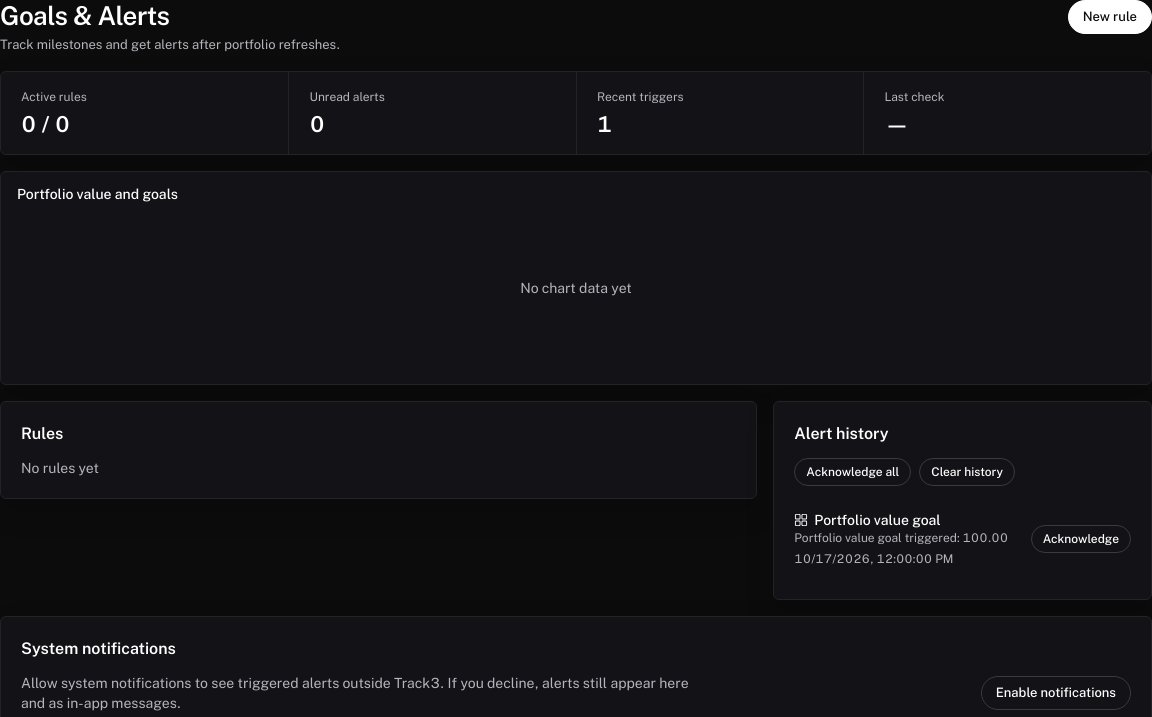
Test case: confirms before clearing alert history
Check: the text "Portfolio value goal triggered: 100.00" is shown, box [794,530,1008,546]
Step 1. Click the button "Clear history" → (967, 472), box [919,458,1015,486]
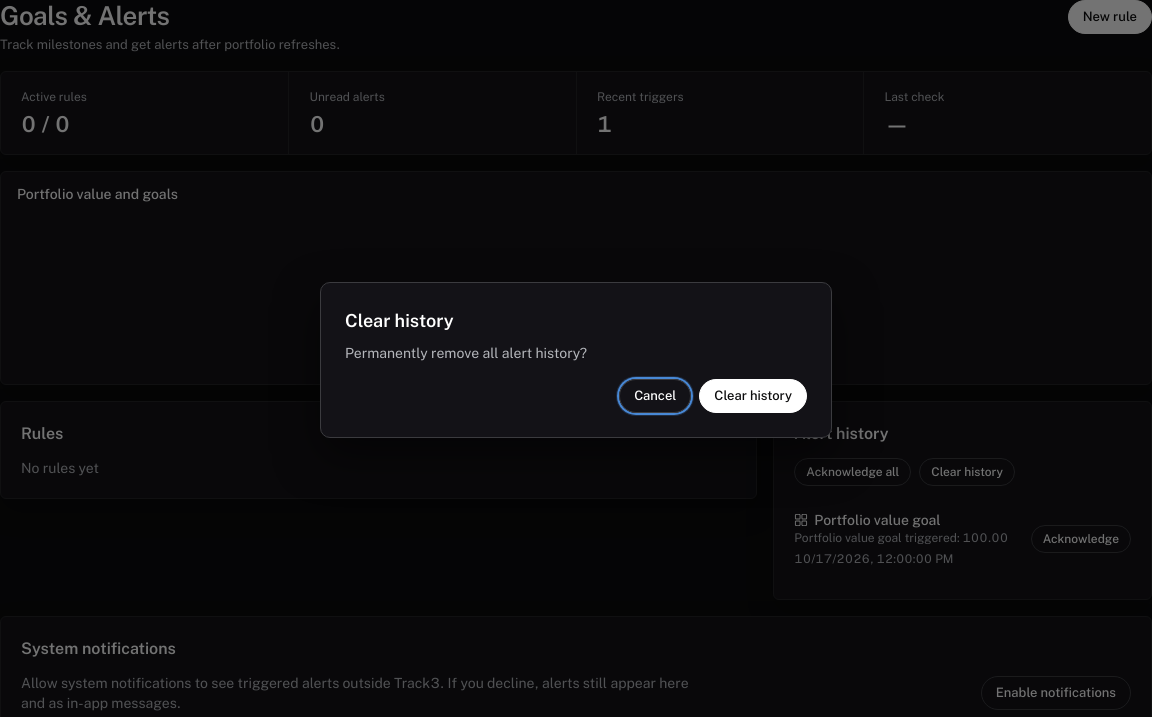
Check: the dialog shows "Permanently remove all alert history?", box [345,345,587,361]
Step 2. Click the button "Cancel" → (655, 396), box [619,379,691,413]
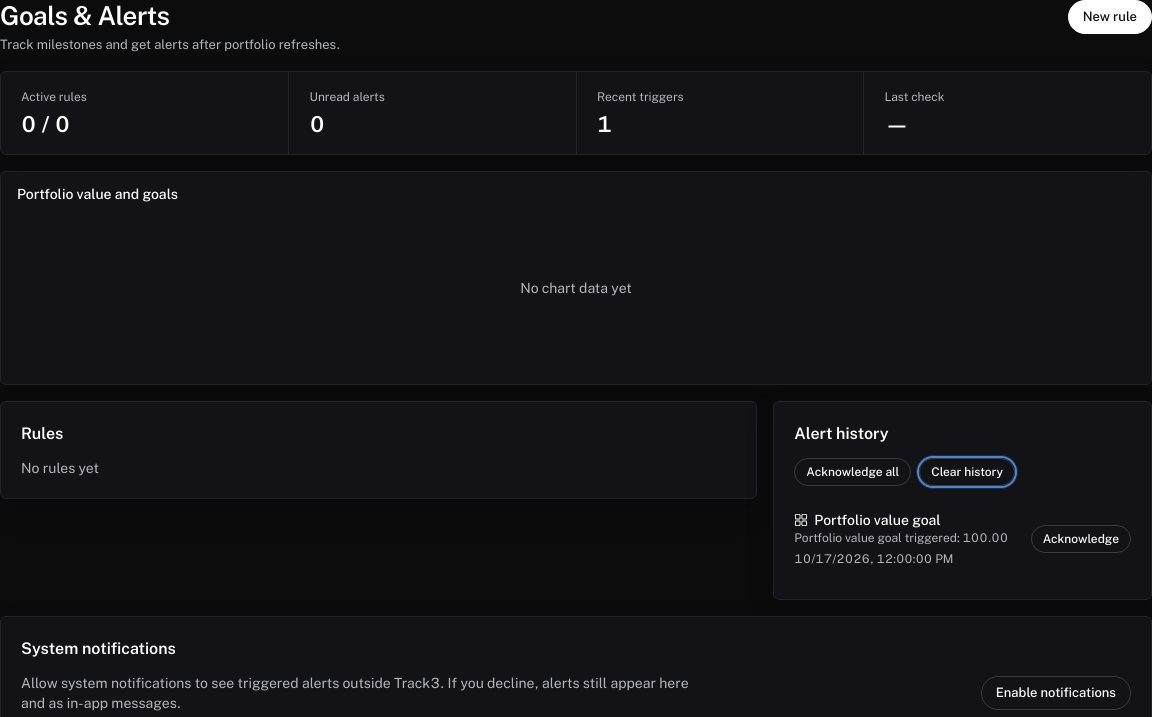
Step 3. Click the button "Clear history" → (967, 472), box [919,458,1015,486]
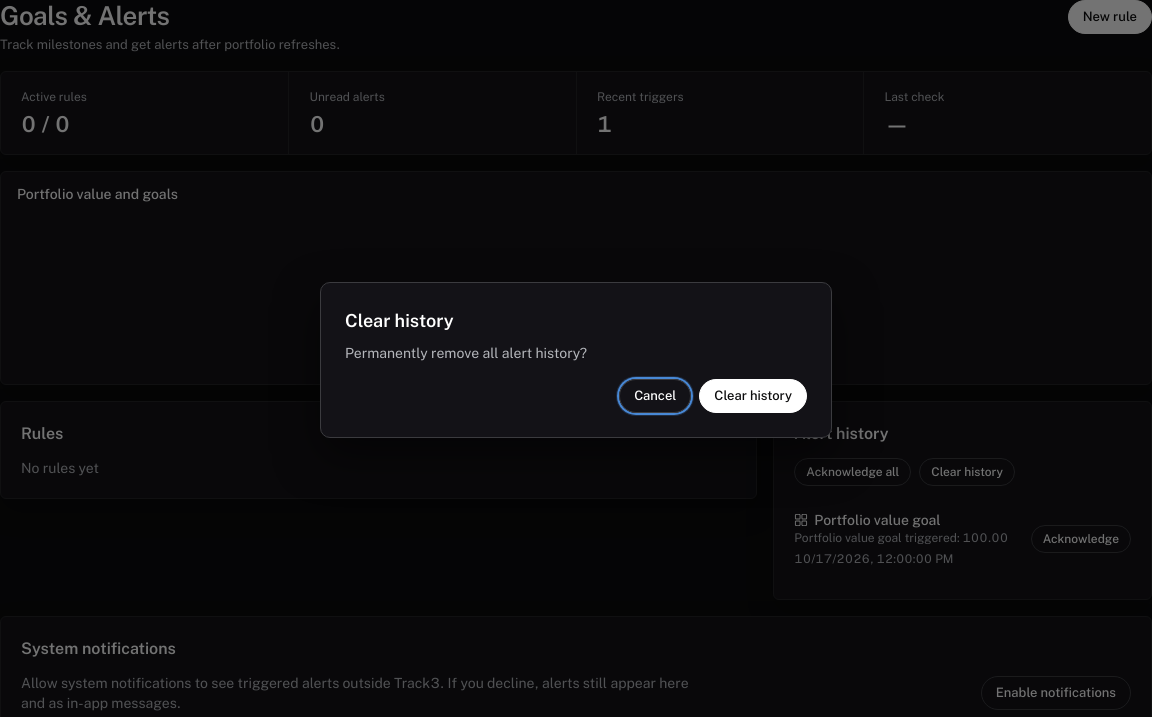
Step 4. Click the button "Clear history" → (753, 396), box [699,379,807,413]
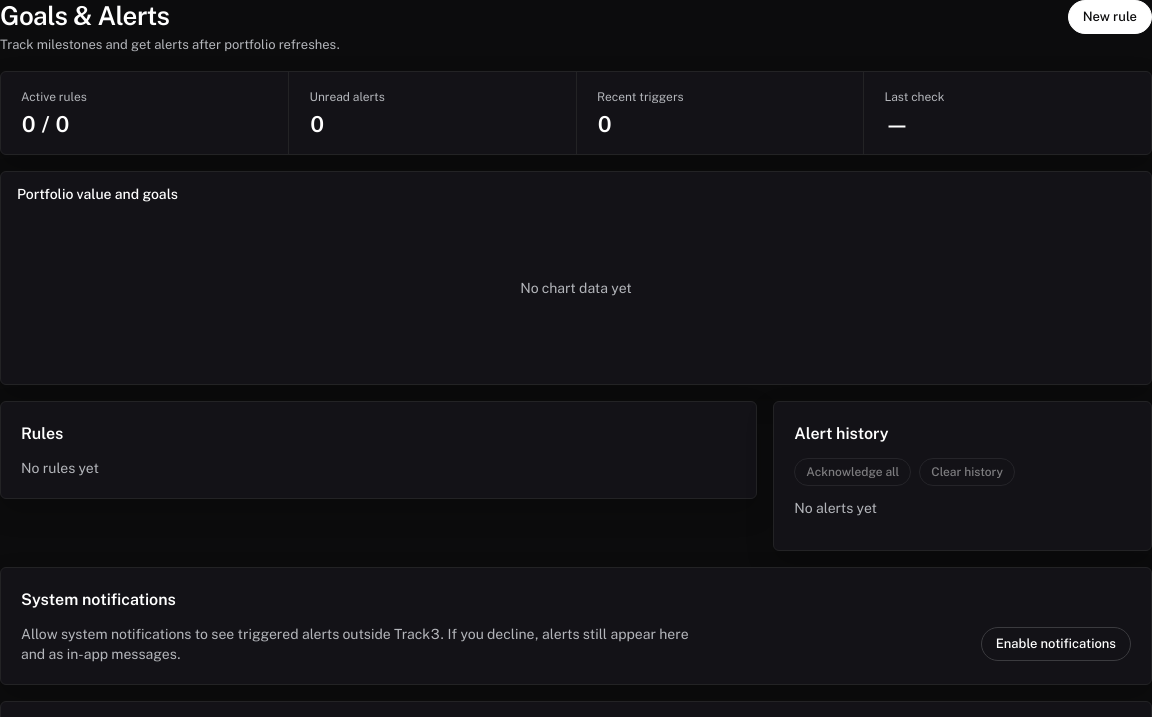
Check: the text "No alerts yet" is shown, box [794,500,877,516]
